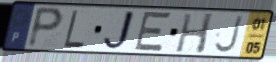E: (132, 10, 174, 53)
H: (174, 12, 216, 55)
J: (100, 9, 137, 53), (213, 14, 245, 55)
L: (62, 8, 86, 50)
P: (25, 5, 66, 50)
